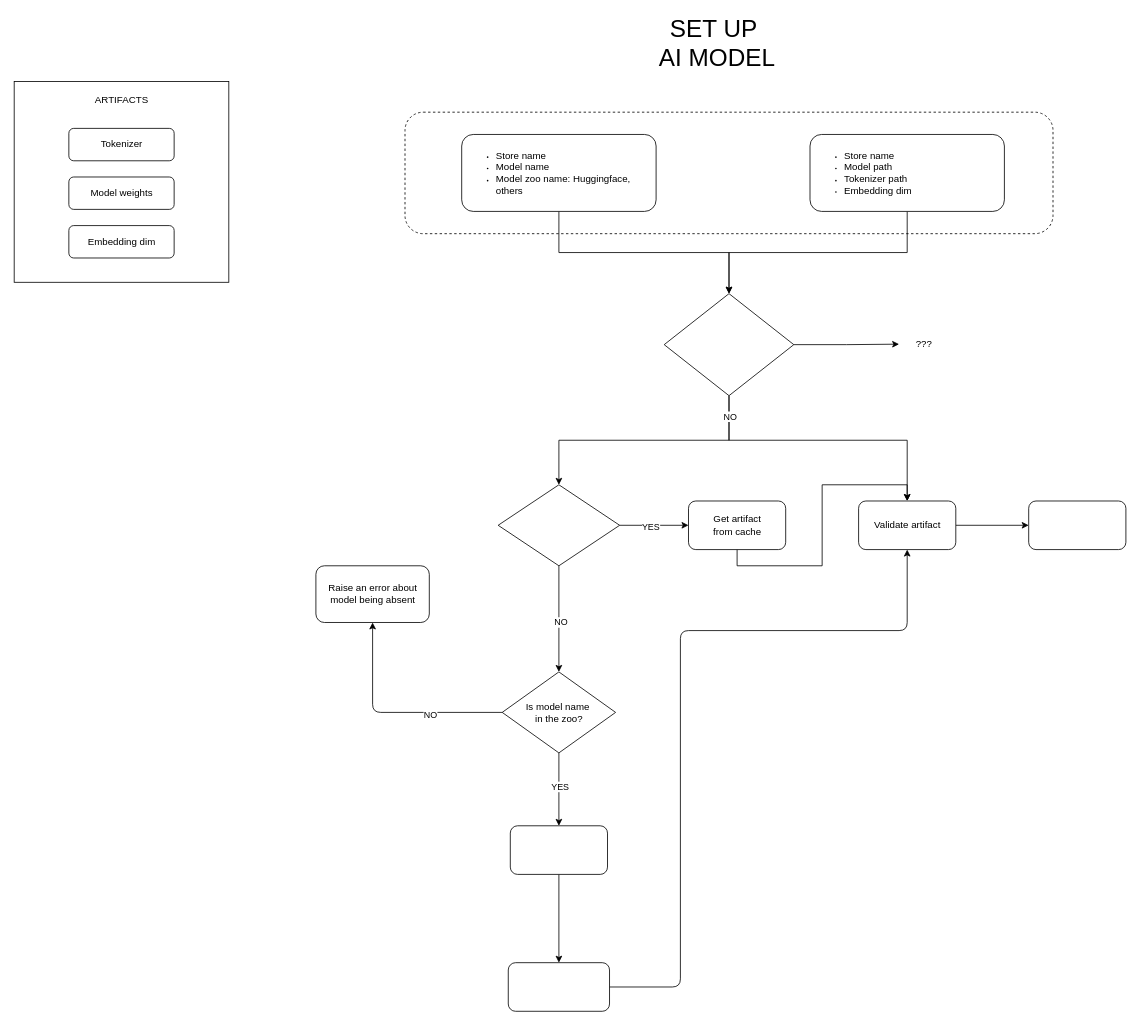
The diagram is 1140 pixels wide and 1025 high, and some of its shapes have lost their labels. Here are the shapes that lost their labels. From the top down, the box of each, then its label:
(663, 293, 794, 396): Is store exist?
(497, 484, 620, 566): Are artifacts in cache?
(1028, 500, 1126, 550): Create store
(509, 825, 608, 874): Get artifact from store
(507, 962, 610, 1011): Cache artifacts
